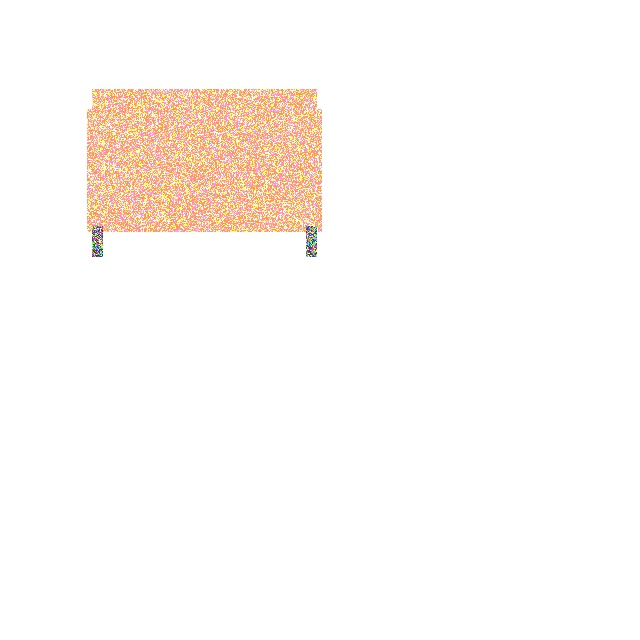Chaise: (86, 109, 322, 231)
